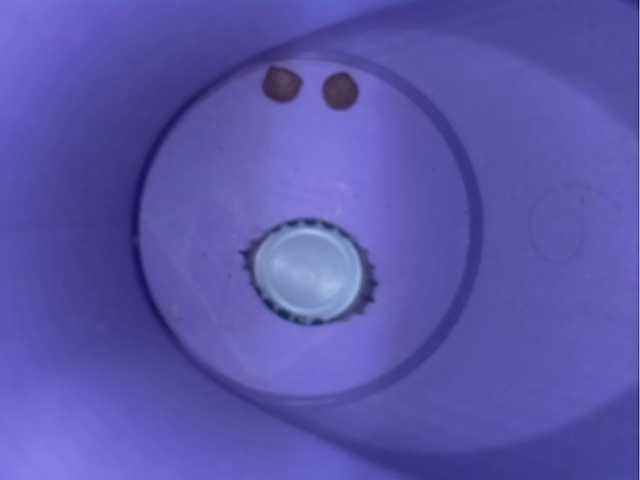capsule: (232, 201, 390, 331)
croquette: (255, 55, 309, 110), (316, 65, 364, 121)
